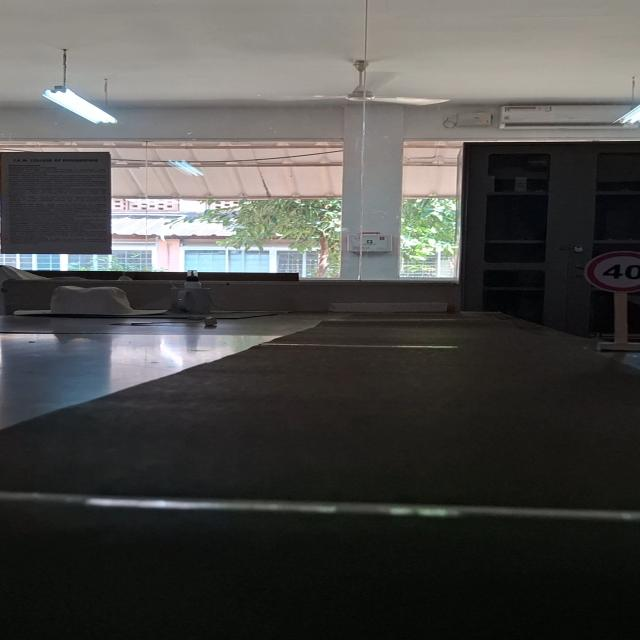Speed40: (580, 246, 640, 295)
